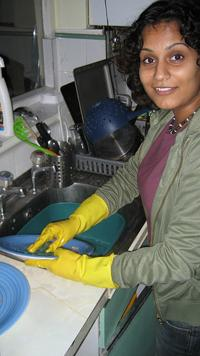person: (26, 3, 200, 354)
